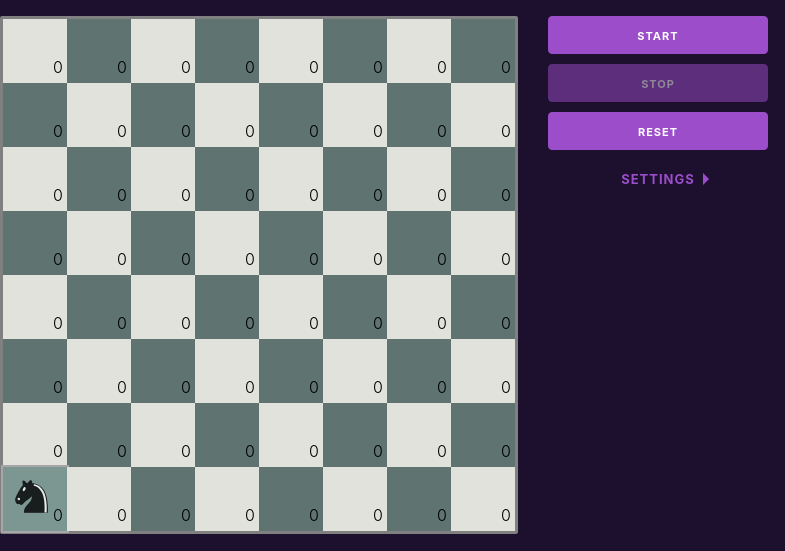
Test case: The Main container › resets the visit counts and stops moving when the user presses reset
Click the button "Start".
click(658, 35)  # box [548,16,768,54]
Wait 600 ms
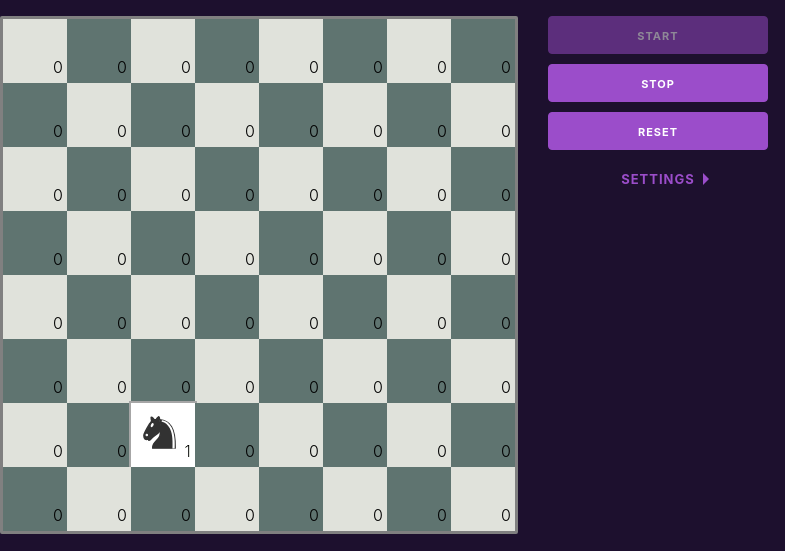
expect the text "1" is shown once: met, box [184,441,191,461]
Click the button "Reset".
click(658, 131)  # box [548,112,768,150]
Wait 1200 ms
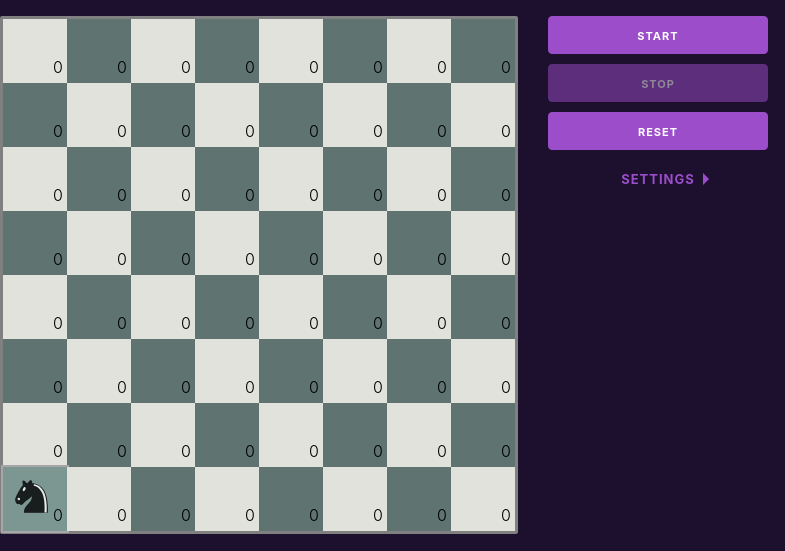
expect the text "1" is not shown: met
